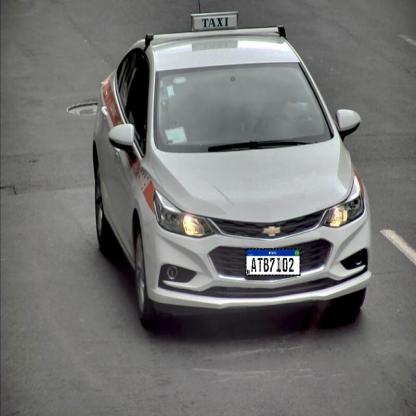PlacaM: (245, 248, 300, 276)
